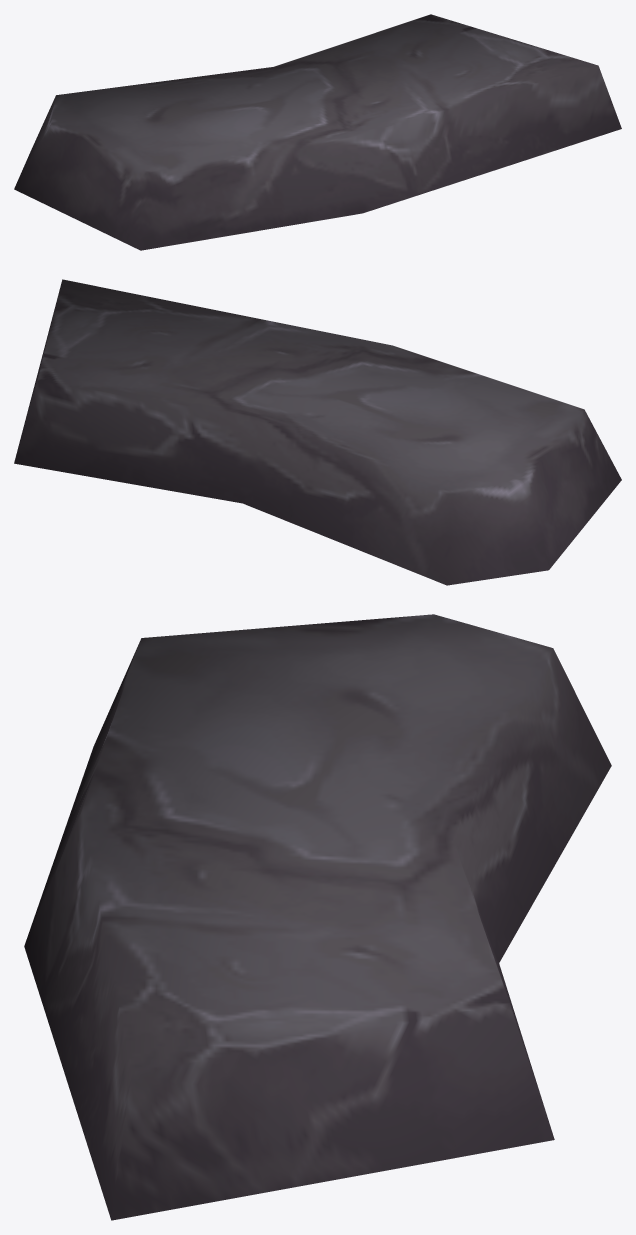
Rendered from yw_shanlin_stones_026.FBX.
3 views of the same model, one above another, from view 1: azimuth 30°, elevation 25°; view 2: azimuth 150°, elevation 25°; view 3: azimuth 270°, elevation 25° (orthographic). The views are drawn at different scales.
Visible parts, largest first — view 1: yw_shanlin_stones_026; view 2: yw_shanlin_stones_026; view 3: yw_shanlin_stones_026.
Boxes of the visible parts, x1,y1,x2,y2 form: yw_shanlin_stones_026: (14,14,621,250); yw_shanlin_stones_026: (14,279,621,585); yw_shanlin_stones_026: (24,614,611,1220).
Size of the model in its own units: 134 by 15.84 by 65.9.
